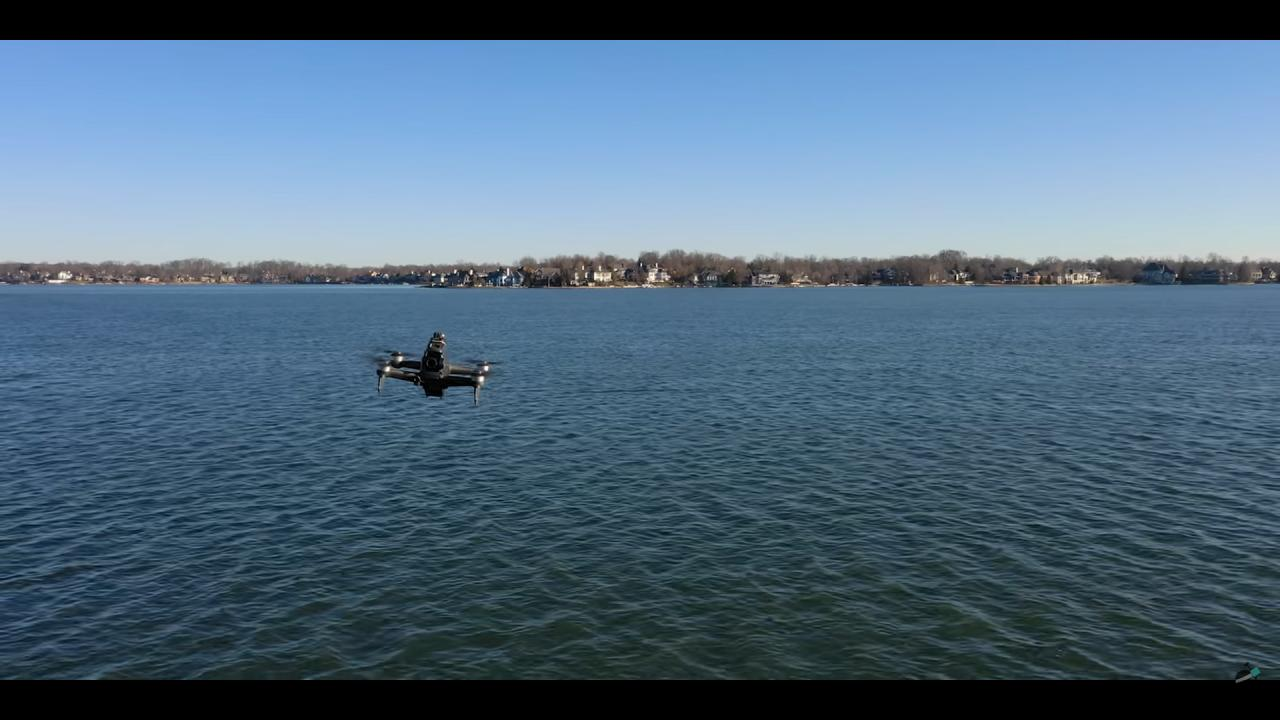Drone: (361, 324, 509, 415)
